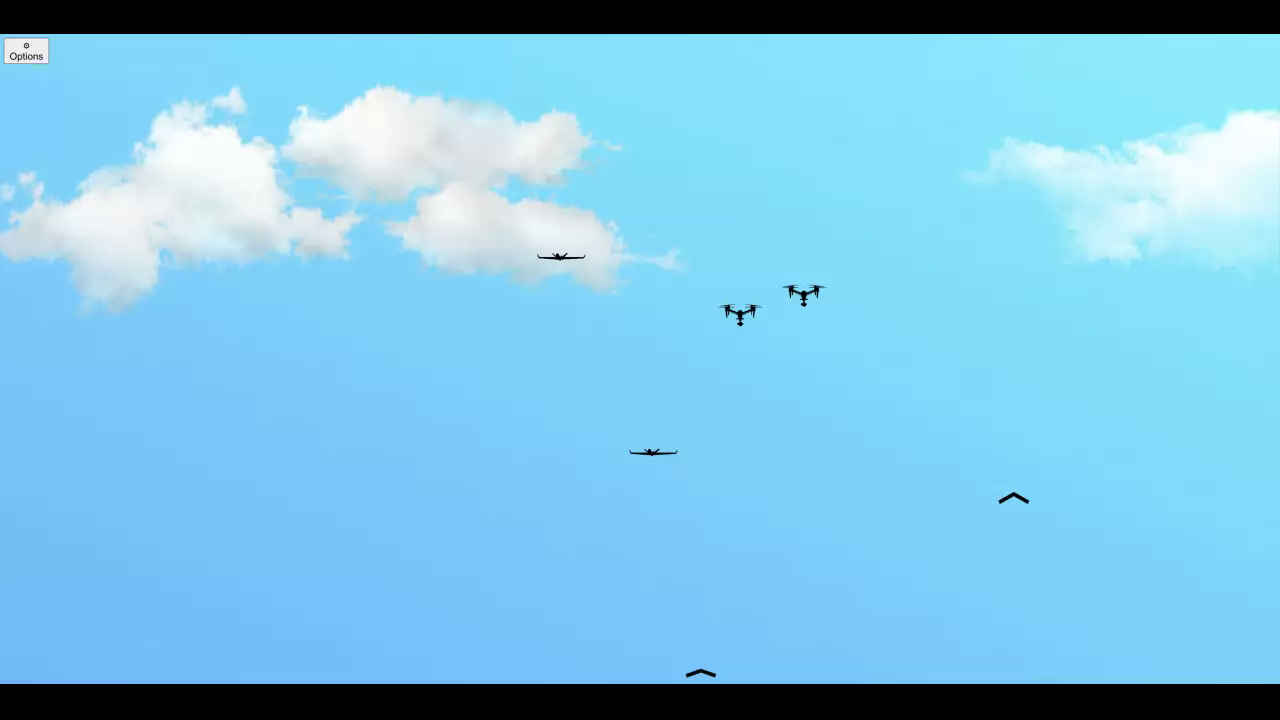Bird: (981, 478, 1052, 513), (666, 647, 729, 683)
Drone: (614, 434, 695, 473), (522, 238, 598, 277)
Quadcopter: (775, 268, 842, 315), (700, 293, 766, 340)
